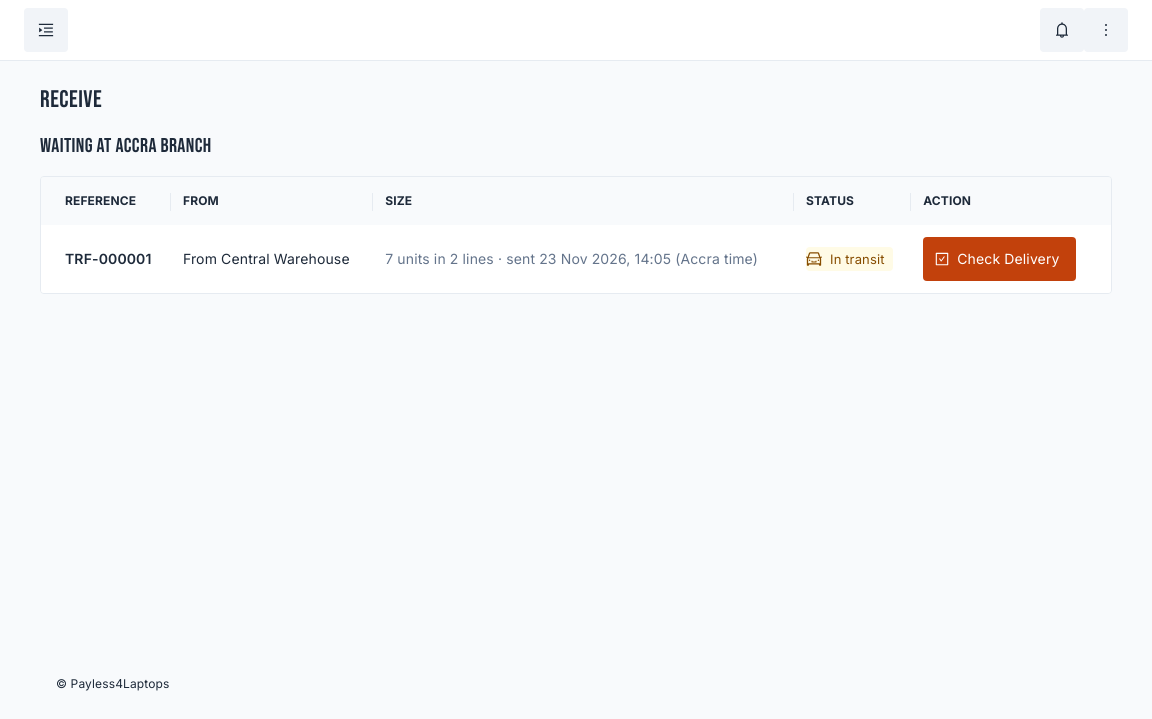
Test: waiting at a branch (F5.3, F5.4) › opens a delivery from the list
Click the link with aria-label "Check delivery TRF-000001" at (999, 259), box [923,237,1076,281]
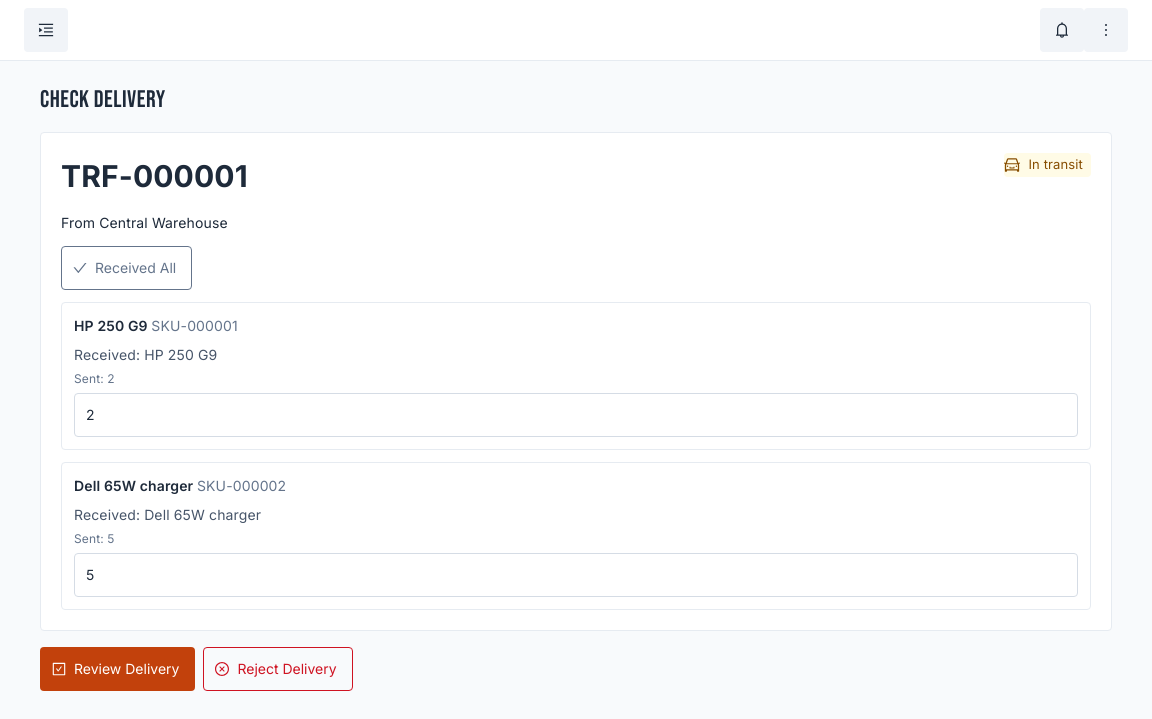
Result: the heading "Check delivery" is shown at [40,85,166,114]
